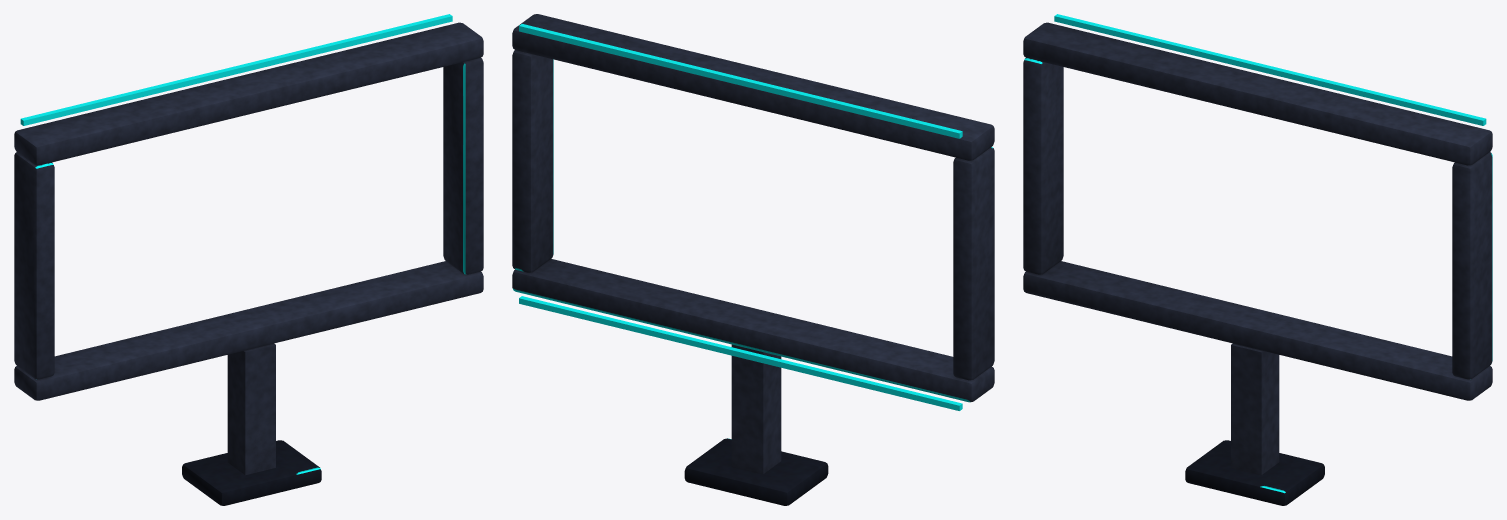
File: lot_sign.fbx
3 renders of one model, left to right at view 1: azimuth 30°, elevation 25°; view 2: azimuth 150°, elevation 25°; view 3: azimuth 330°, elevation 25°, orthographic. The views are drawn at different scales.
Parts seen in each view (by area): view 1: lot_sign, lot_sign_glow; view 2: lot_sign, lot_sign_glow; view 3: lot_sign, lot_sign_glow.
Boxes of the visible parts, left/top/right/bottom form: lot_sign: left=14, top=22, right=483, bottom=505; lot_sign_glow: left=20, top=14, right=452, bottom=125; lot_sign: left=512, top=14, right=994, bottom=505; lot_sign_glow: left=519, top=24, right=962, bottom=410; lot_sign: left=1023, top=22, right=1492, bottom=505; lot_sign_glow: left=1054, top=14, right=1486, bottom=125.
Bounding box in the file's own units: 880 × 753 × 140.
Materials: 1 (1 with a texture image).
